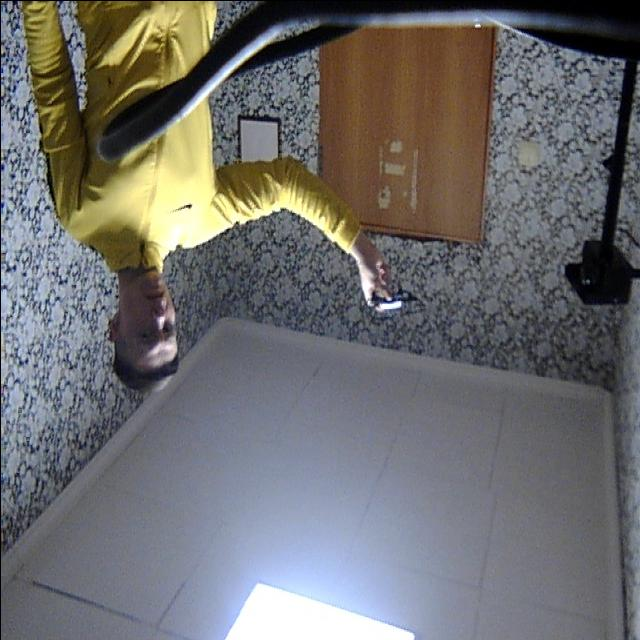drone: (346, 272, 426, 334)
